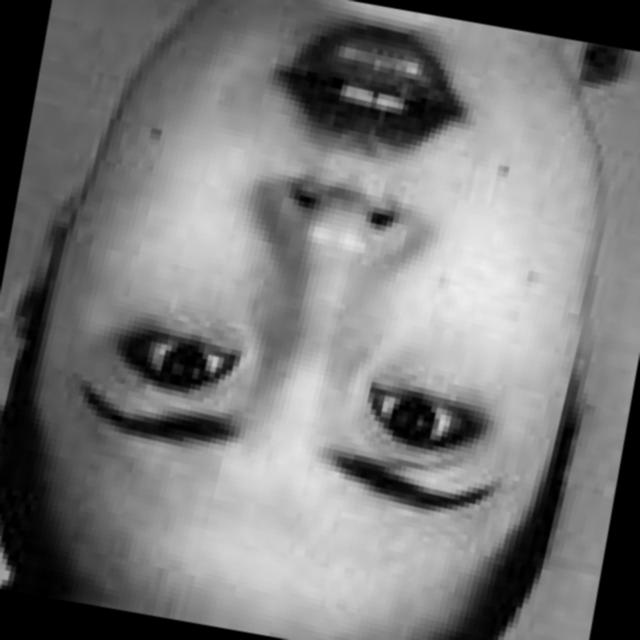fear: (38, 0, 604, 638)
